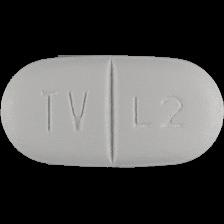42291-363: (0, 0, 224, 224)
